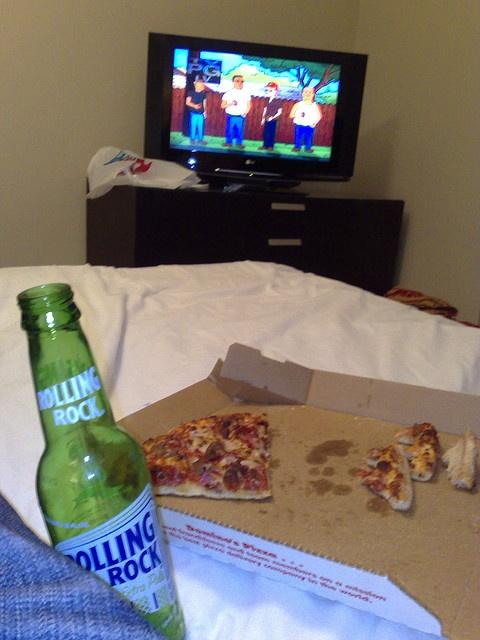AIO PC-Monitor-TV: (141, 29, 368, 194)
